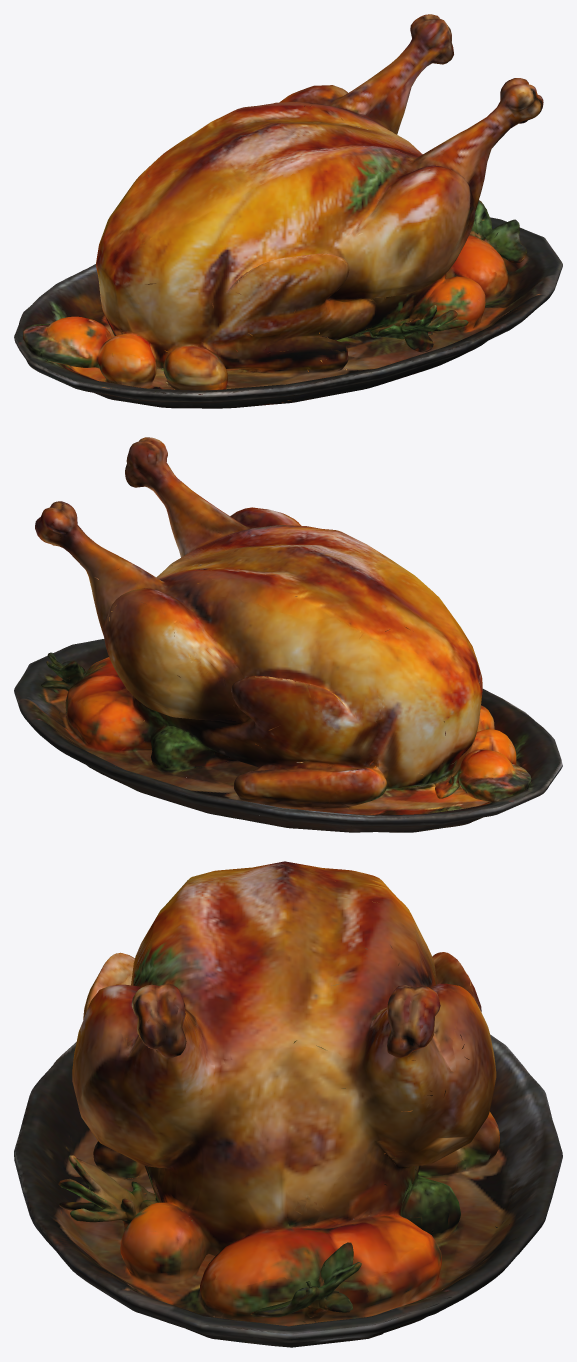
The model's file is chicken.glb.
The picture shows the model from 3 angles, top to bottom: view 1: azimuth 30°, elevation 25°; view 2: azimuth 150°, elevation 25°; view 3: azimuth 270°, elevation 25°; orthographic projection. The views are drawn at different scales.
Visible parts, largest first — view 1: Mesh1_Mesh1.067; view 2: Mesh1_Mesh1.067; view 3: Mesh1_Mesh1.067.
Boxes of the visible parts, x1,y1,x2,y2 form: Mesh1_Mesh1.067: (14,14,562,408); Mesh1_Mesh1.067: (14,437,562,832); Mesh1_Mesh1.067: (14,861,562,1347).
Size of the model in its own units: 2 by 0.8786 by 1.29.
1 material, 1 textured.
